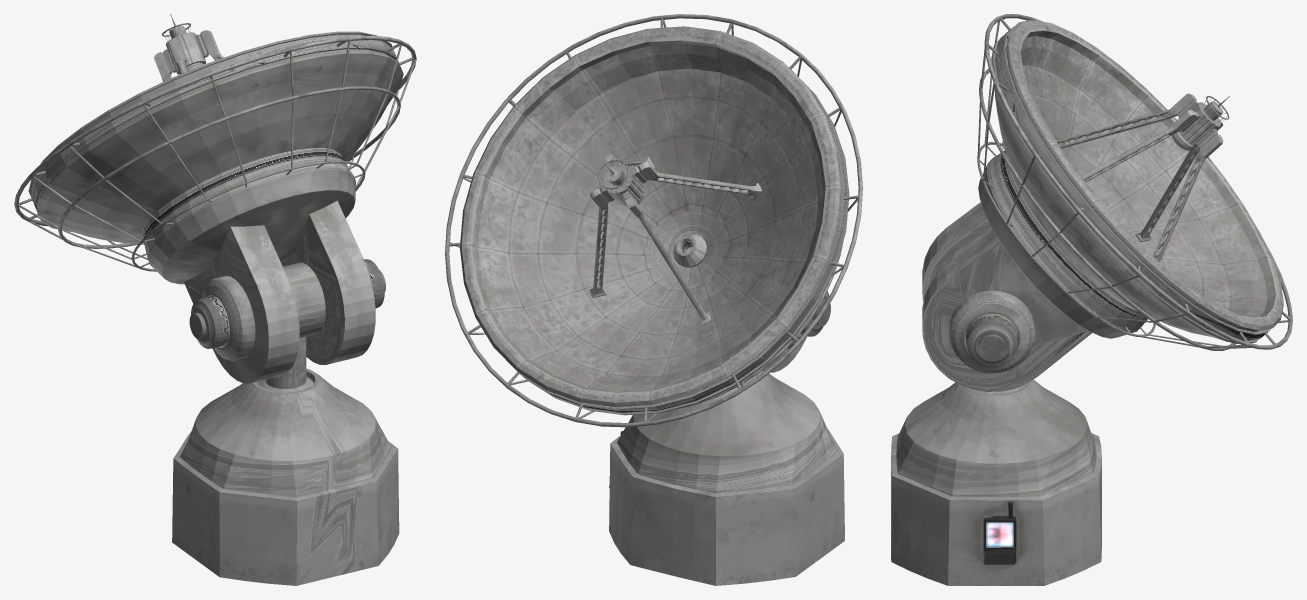
File: ray_receiver.glb
3 renders of one model, left to right at view 1: azimuth 30°, elevation 25°; view 2: azimuth 150°, elevation 25°; view 3: azimuth 270°, elevation 25°, orthographic. The views are drawn at different scales.
Parts seen in each view (by area): view 1: Dish__0; view 2: Dish__0; view 3: Dish__0.
Part boxes in pixels (x1,y1,x2,y2): Dish__0: (14,14,416,585); Dish__0: (445,14,862,585); Dish__0: (891,14,1292,585).
Bounding box in the file's own units: 0.7894 × 1 × 0.728.
Materials: 1 (1 with a texture image).
